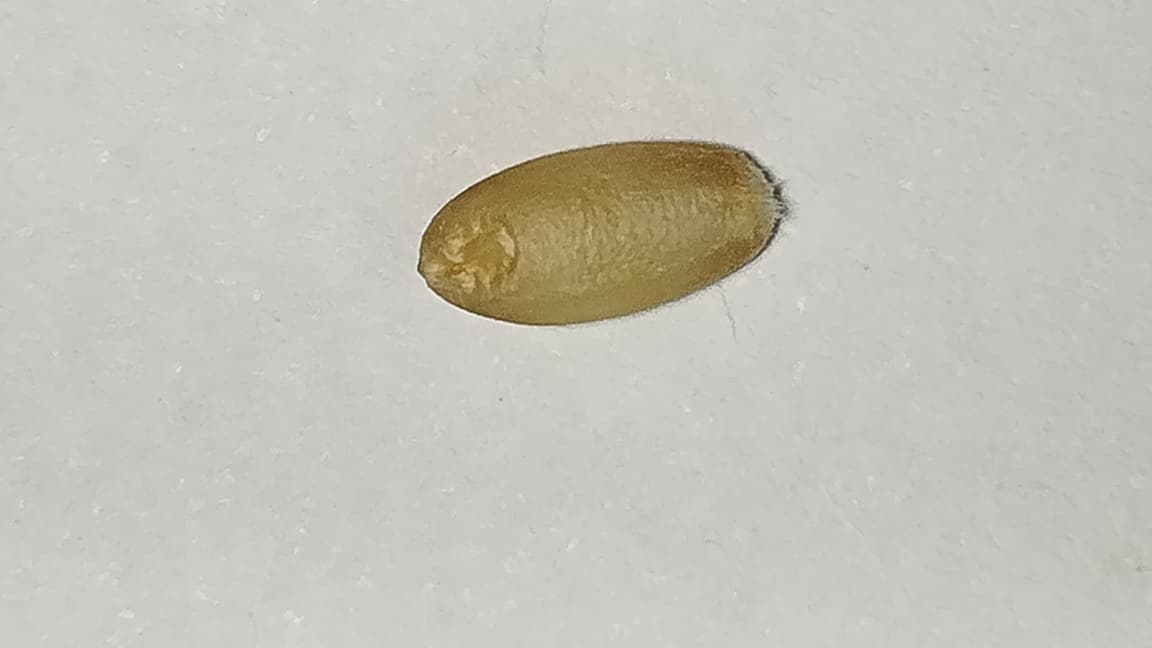healthy: (419, 141, 784, 323)
